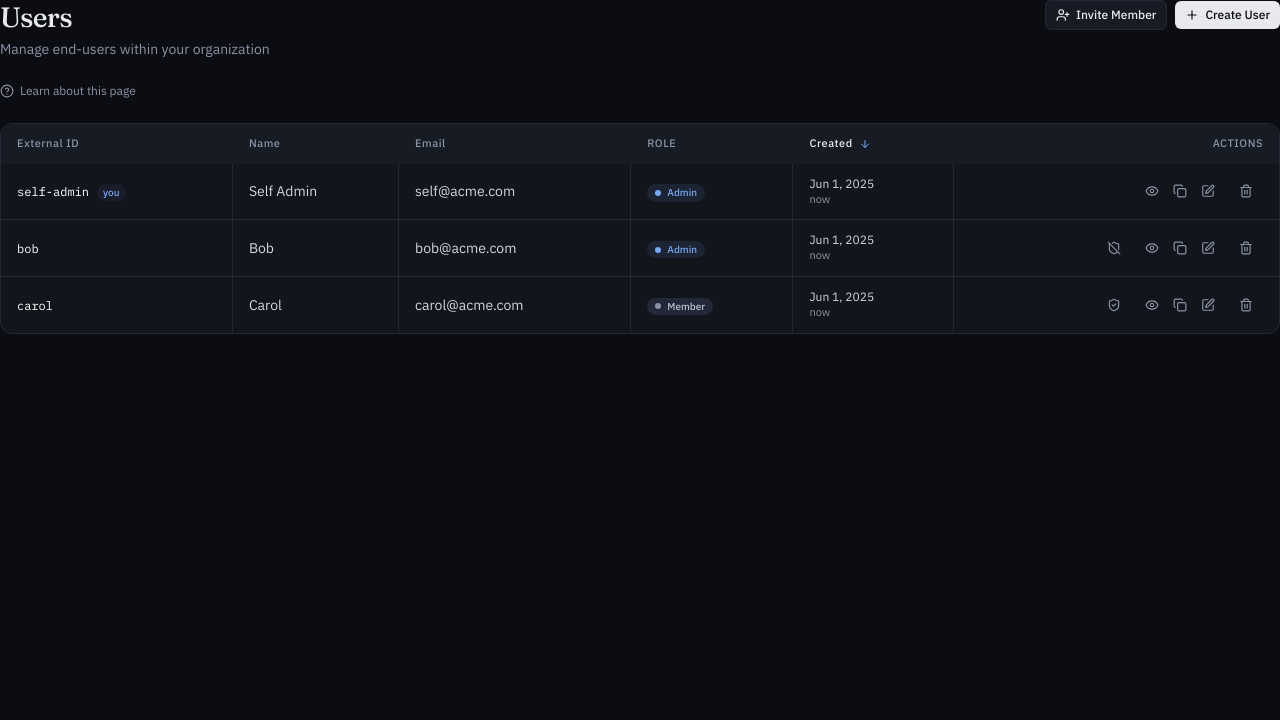
Scenario: UsersPage › submits the Invite Member dialog with trimmed email and name, then closes
The image size is (1280, 720).
Click the button "Invite Member" at (1106, 15), box [1045, 0, 1167, 30]
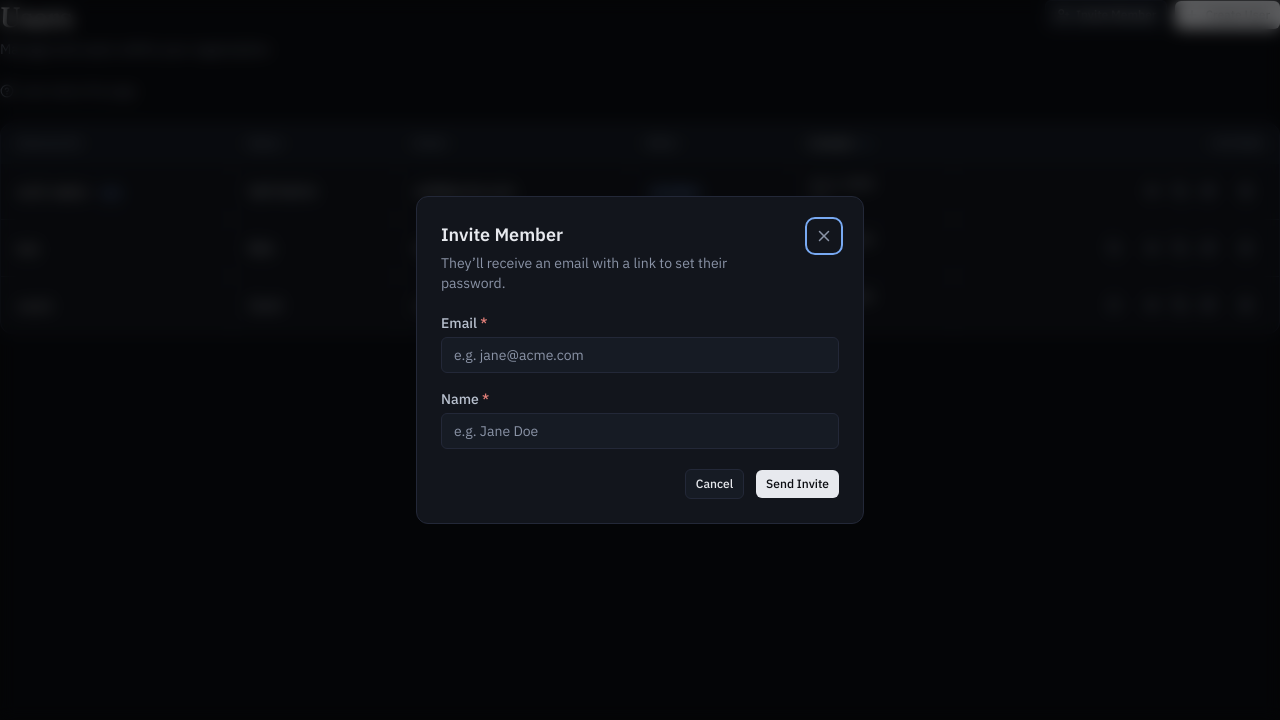
Type "  jane@acme.com  " into the field with placeholder "e.g. jane@acme.com" at (640, 355), box [441, 337, 839, 373]
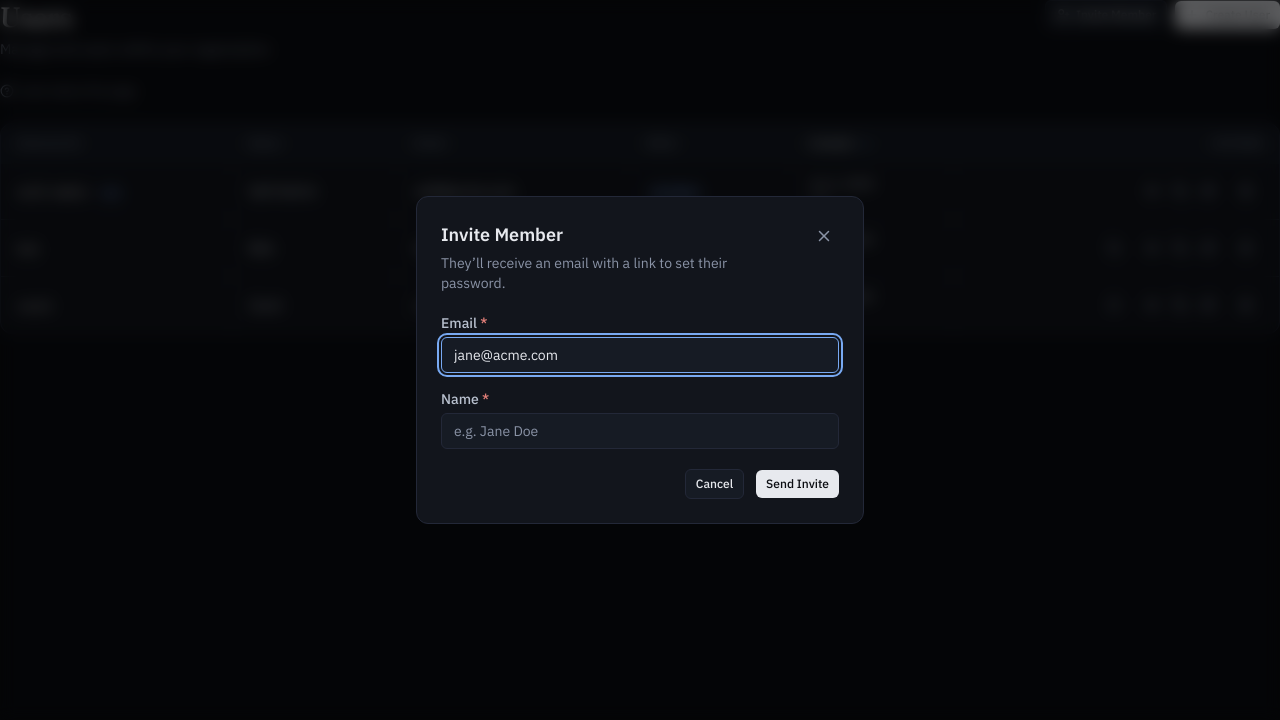
Type "  Jane Doe  " into the field with placeholder "e.g. Jane Doe" at (640, 431), box [441, 413, 839, 449]
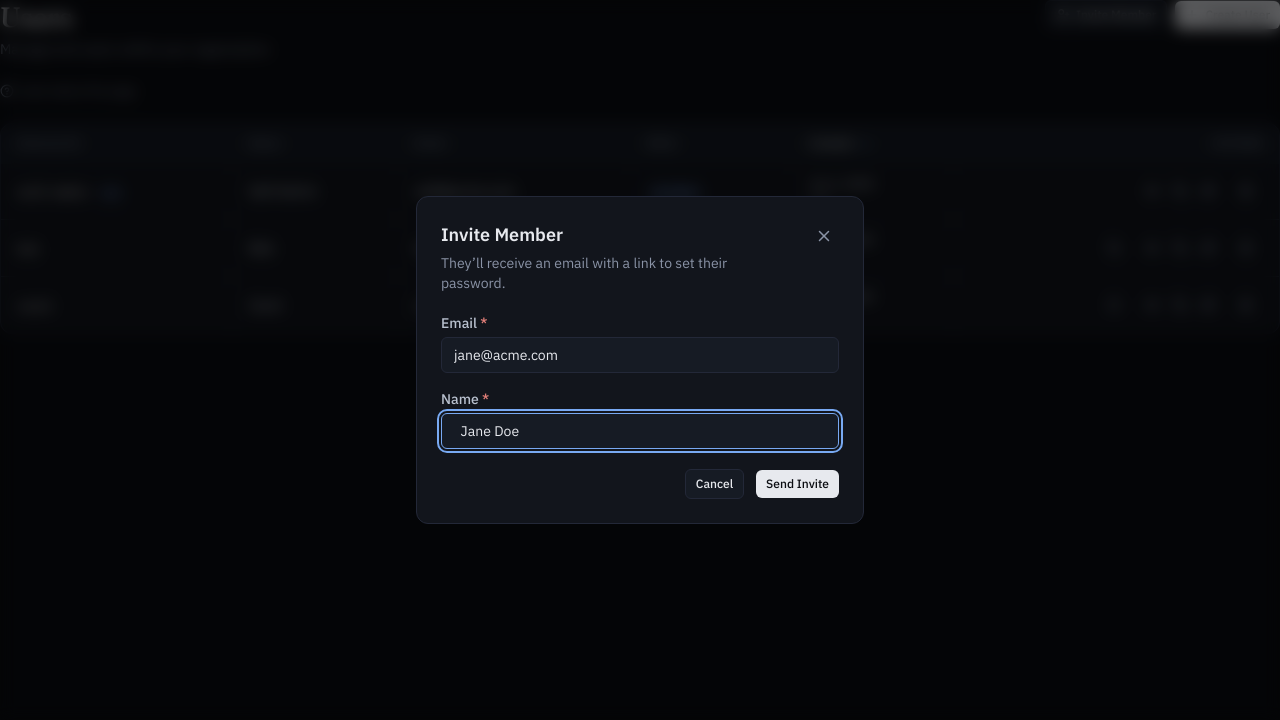
Click the button "Send Invite" at (798, 484), box [756, 470, 839, 498]
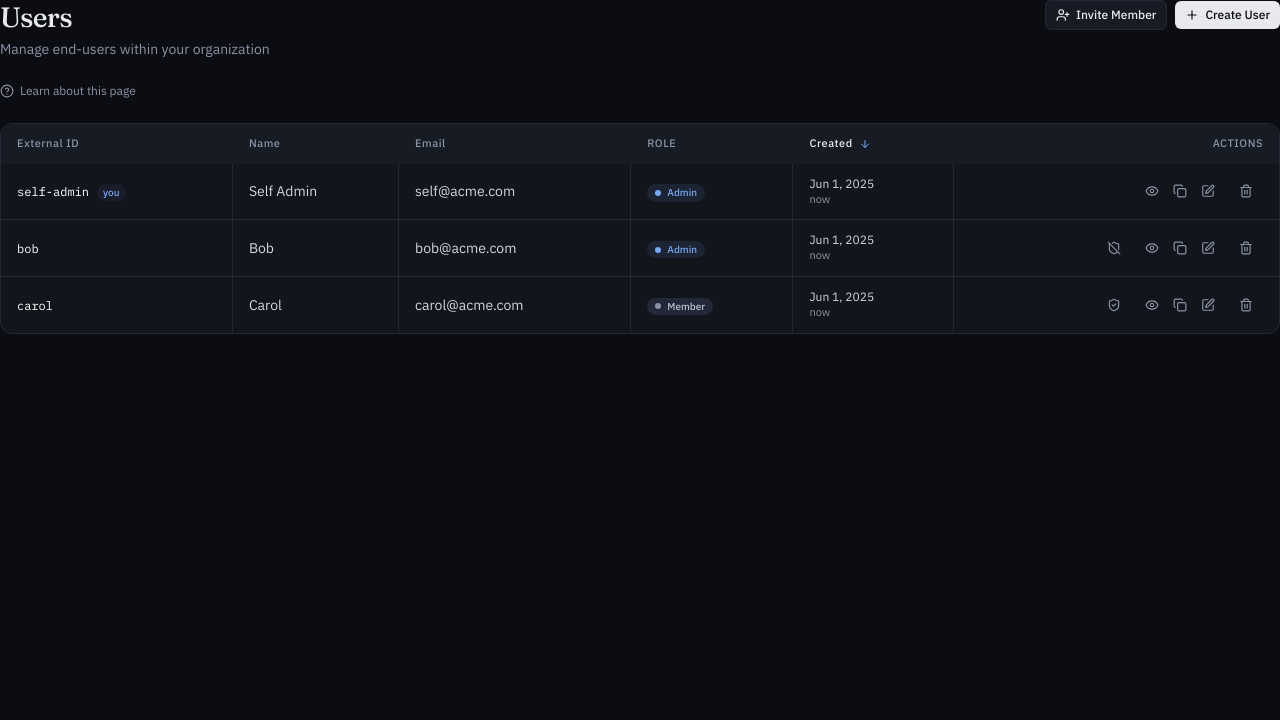
expect the button "Send Invite" is gone: met
